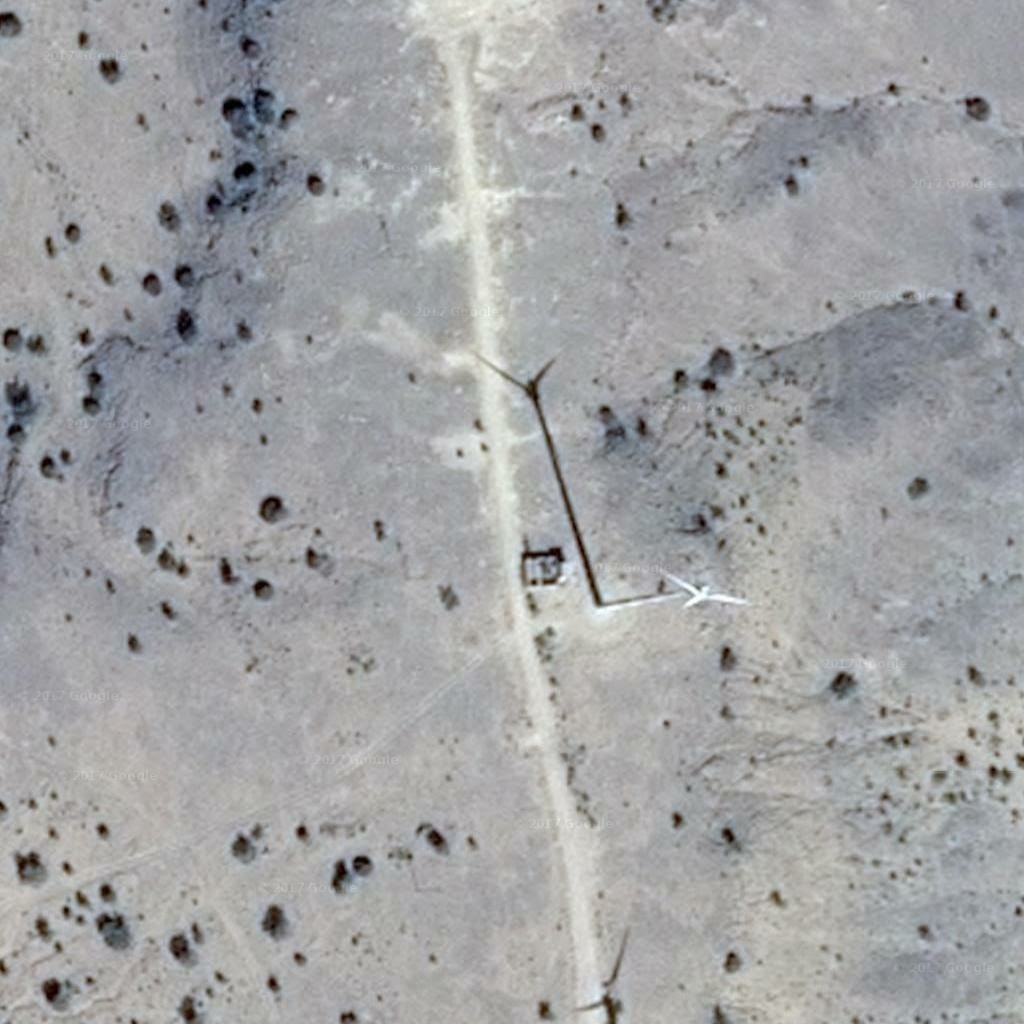Windmill: (473, 347, 615, 603)
